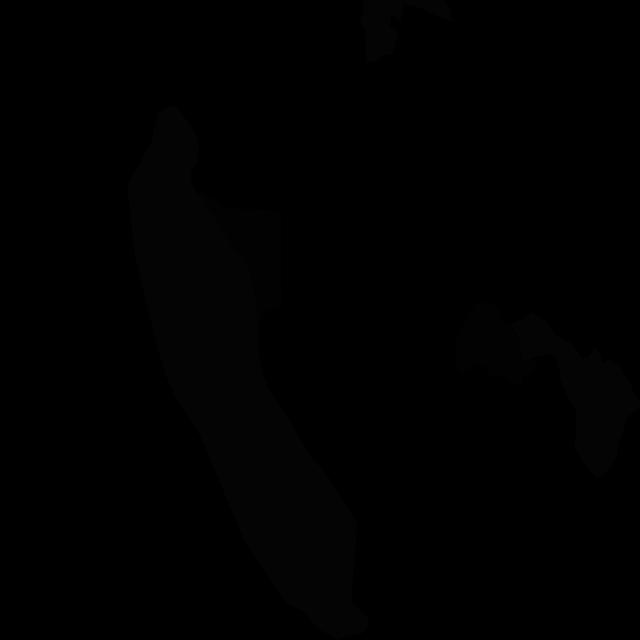cardboard: (198, 191, 282, 323), (455, 301, 538, 385)
soft_plastic: (127, 106, 368, 640), (509, 312, 640, 479), (360, 0, 453, 63)
